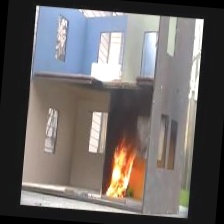fire: (103, 143, 143, 205)
